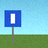sign: (4, 10, 21, 43)
